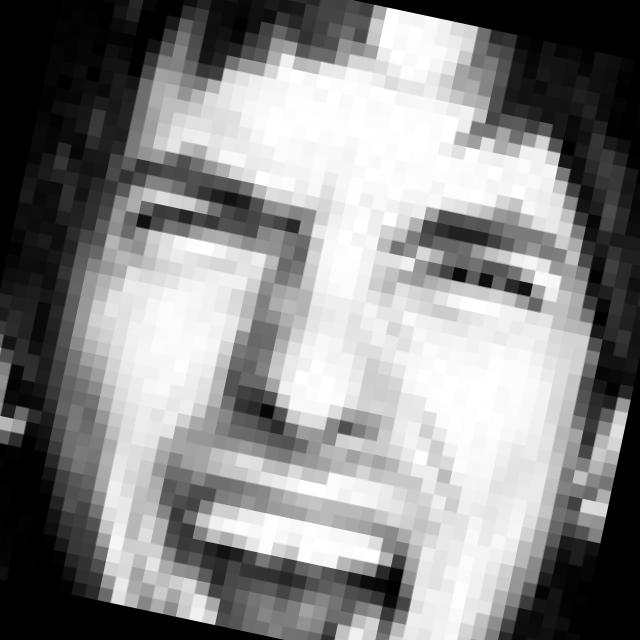angry: (31, 125, 592, 640)
